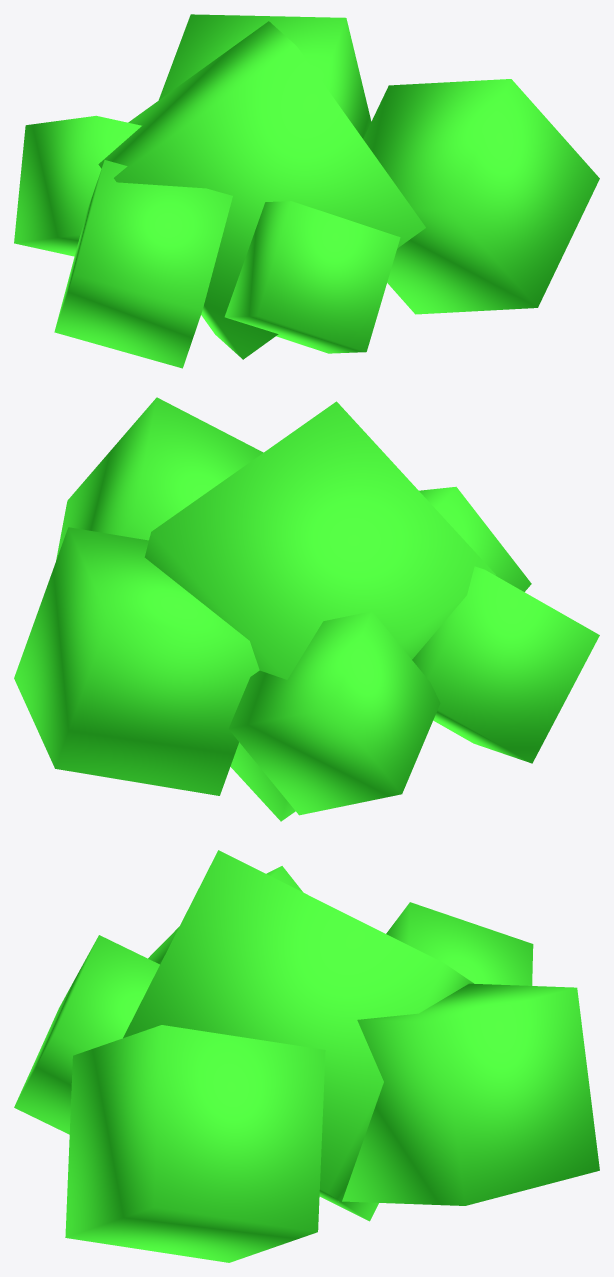
The model's file is bush1.gltf.
The picture shows the model from 3 angles, top to bottom: view 1: azimuth 30°, elevation 25°; view 2: azimuth 150°, elevation 25°; view 3: azimuth 270°, elevation 25°; orthographic projection. The views are drawn at different scales.
Visible parts, largest first — view 1: Bush1; view 2: Bush1; view 3: Bush1.
Boxes of the visible parts, box(x1,y1,x2,y2) form: Bush1: box(14, 14, 599, 368); Bush1: box(14, 397, 599, 821); Bush1: box(14, 850, 599, 1262).
Bounding box in the file's own units: 4.08 × 2.56 × 3.58.
